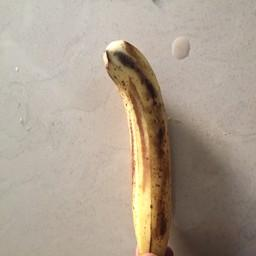Banana Ripe: (82, 31, 215, 256)
